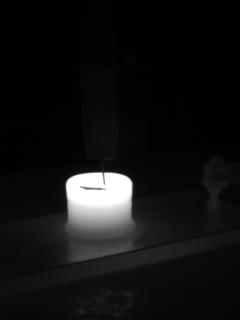tip_wire_left: (86, 155, 106, 187)
tip_wire_right: (103, 155, 116, 187)
